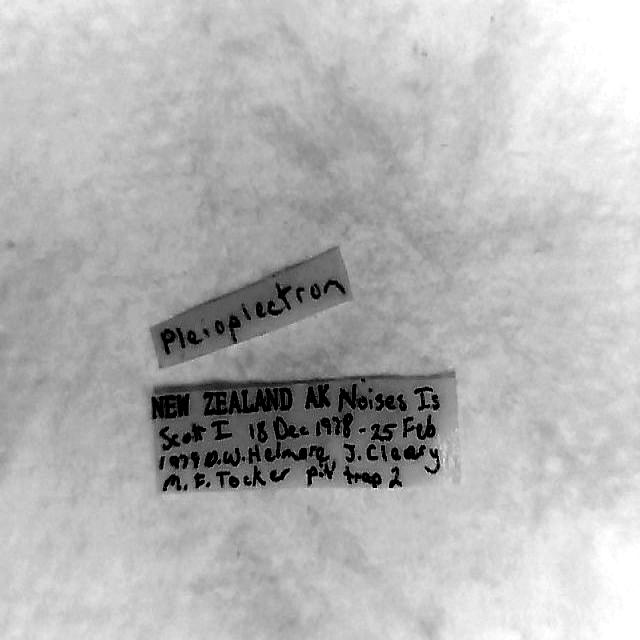hand_label: (152, 248, 352, 366)
mixed_label: (151, 376, 460, 493)
